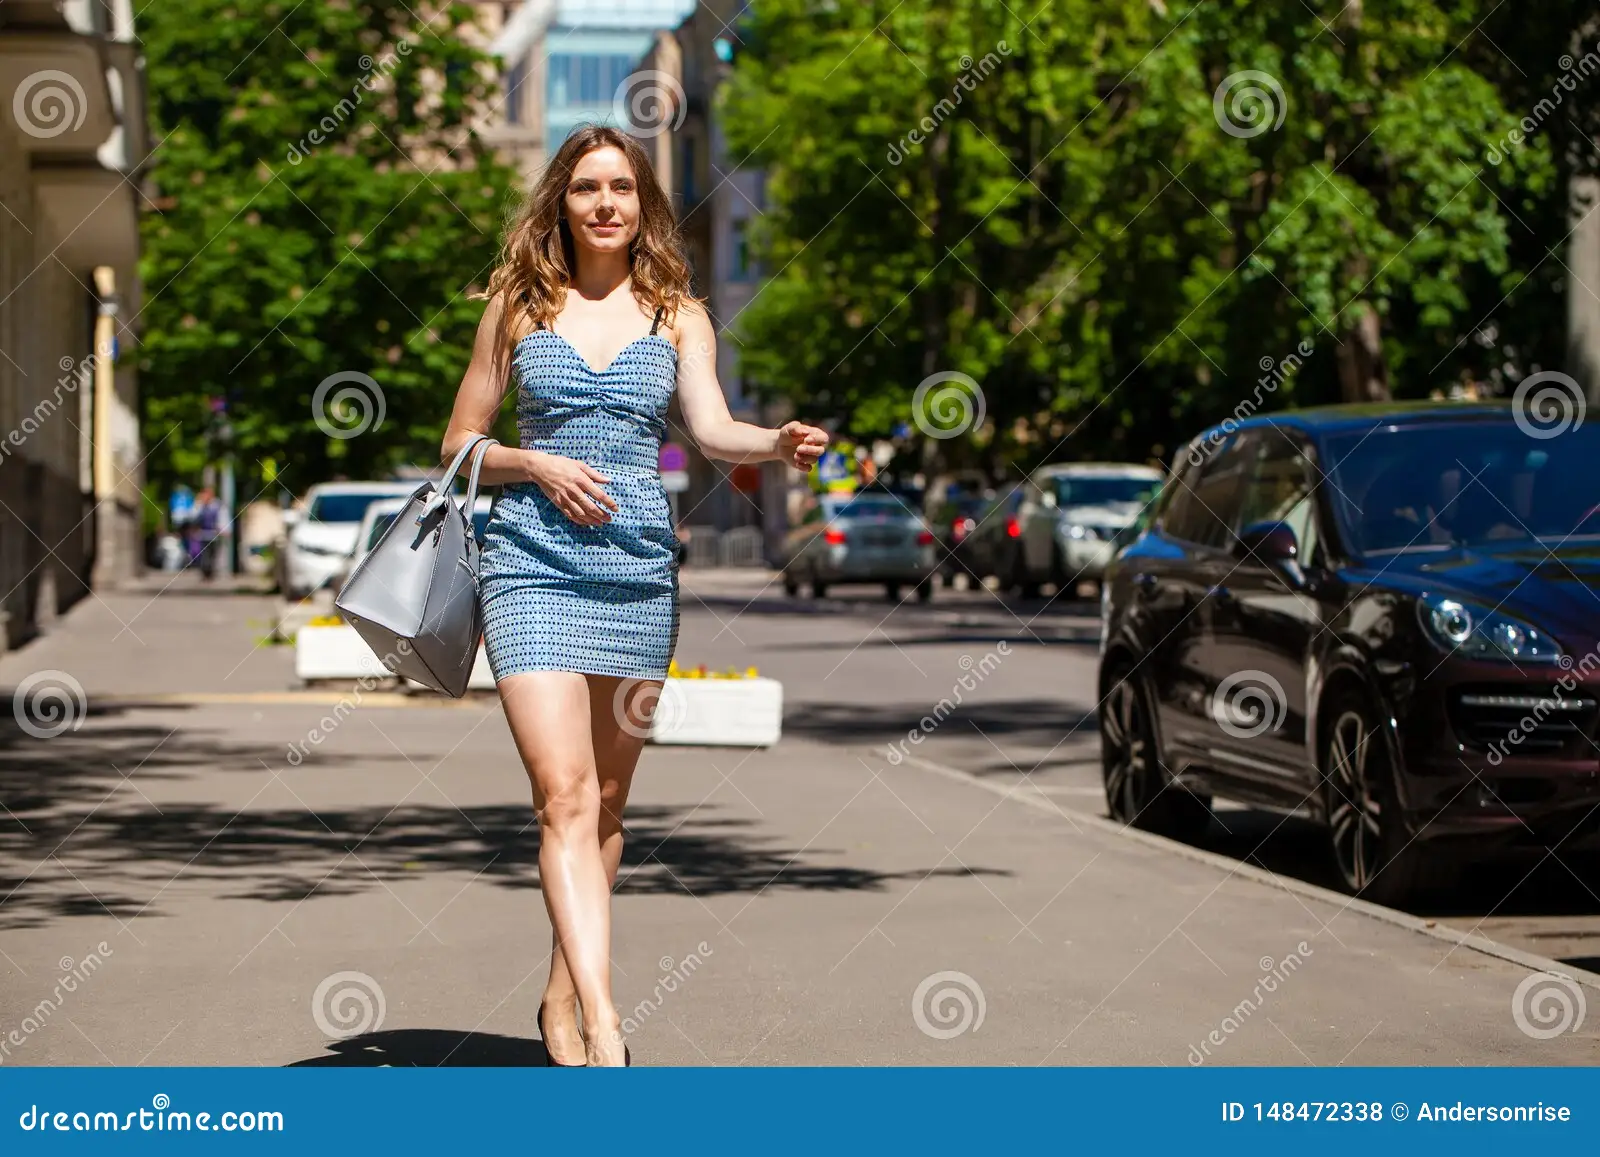car: (1084, 375, 1600, 911), (776, 486, 940, 627)
person: (330, 106, 836, 1064)
